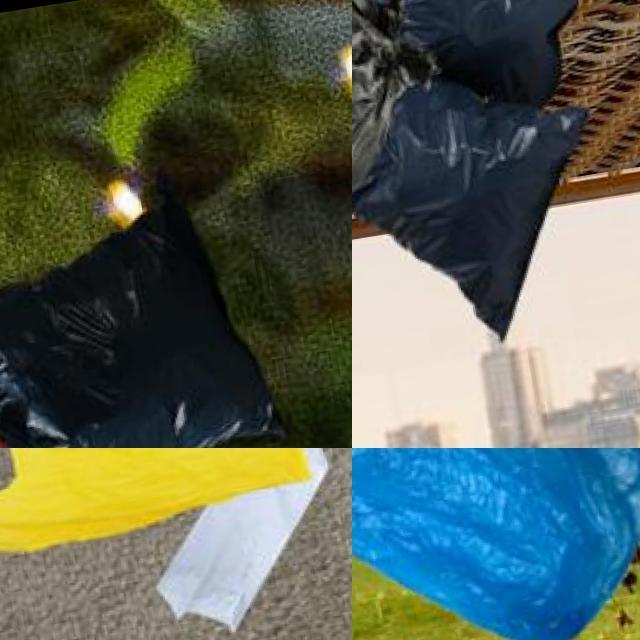waste: (354, 46, 622, 339), (0, 190, 297, 448), (352, 448, 640, 640), (0, 448, 319, 565), (148, 466, 346, 639), (380, 0, 612, 110)
